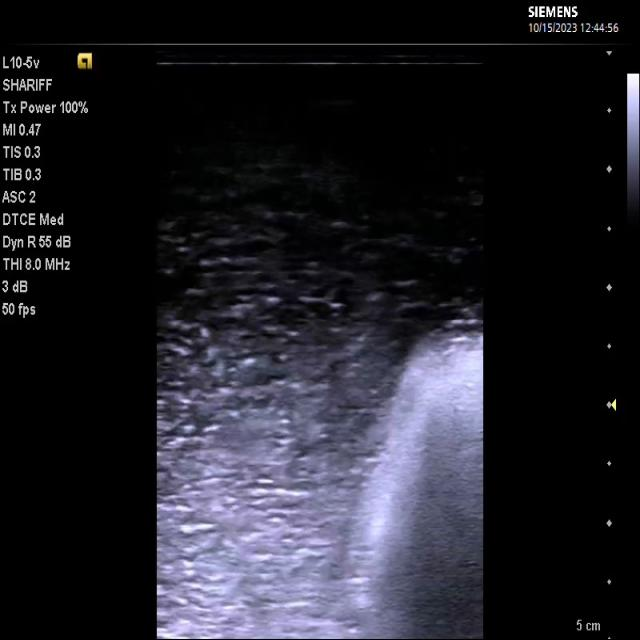tissue: (346, 319, 484, 639)
